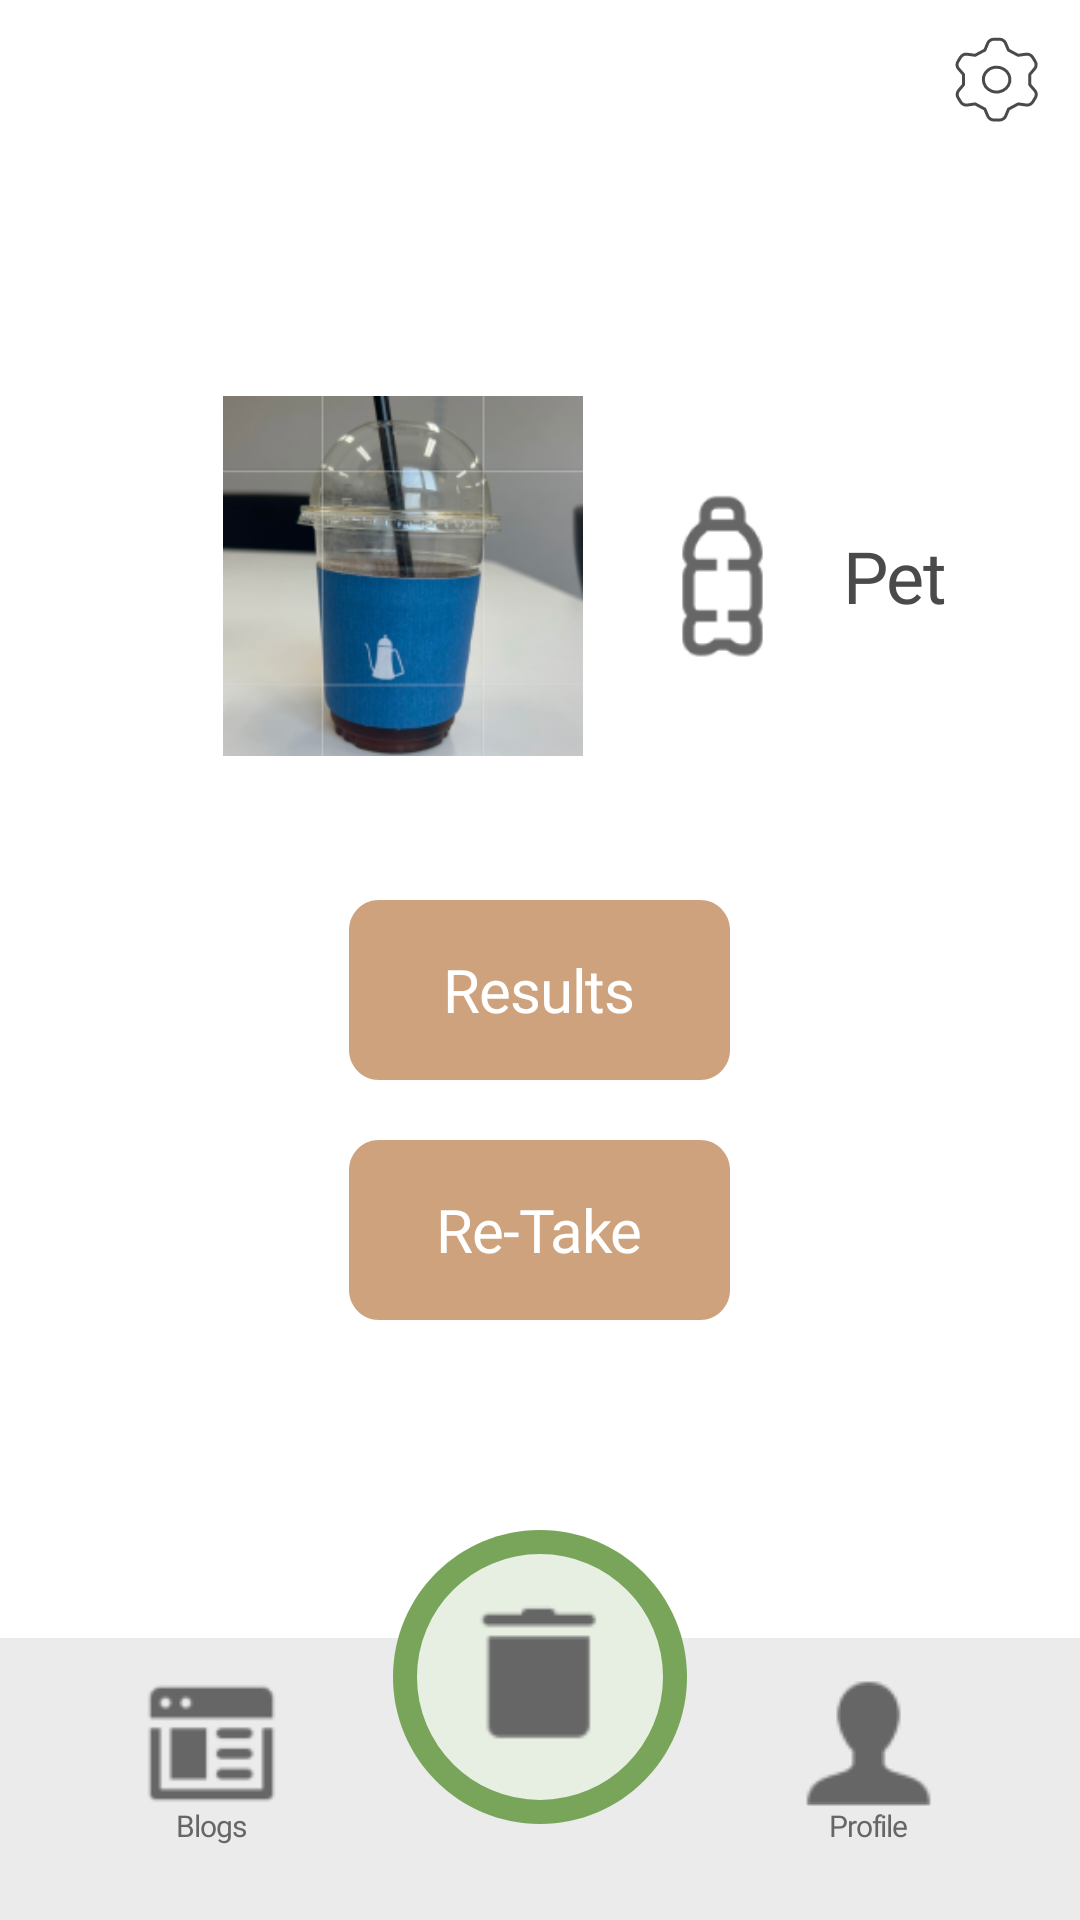

Where to tap for icons on this 1080x1920 app screen, as (x,y):
customer: (868,1743)
trashcan: (538,1673)
web: (211,1743)
